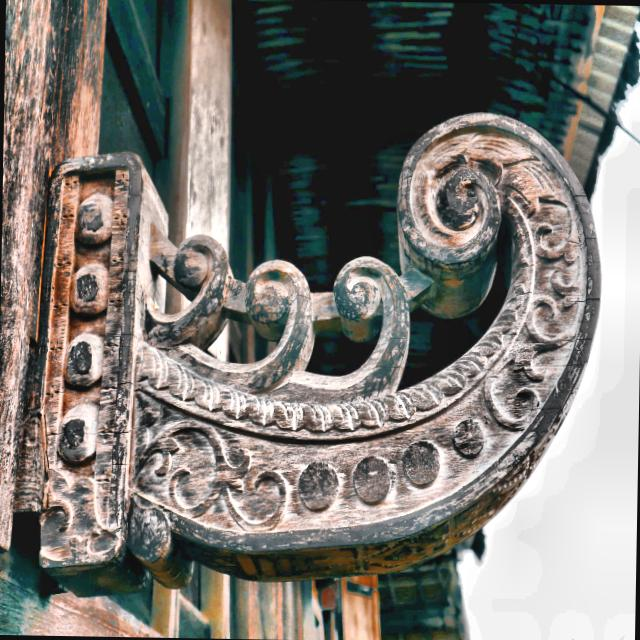ornamen: (11, 113, 602, 588)
